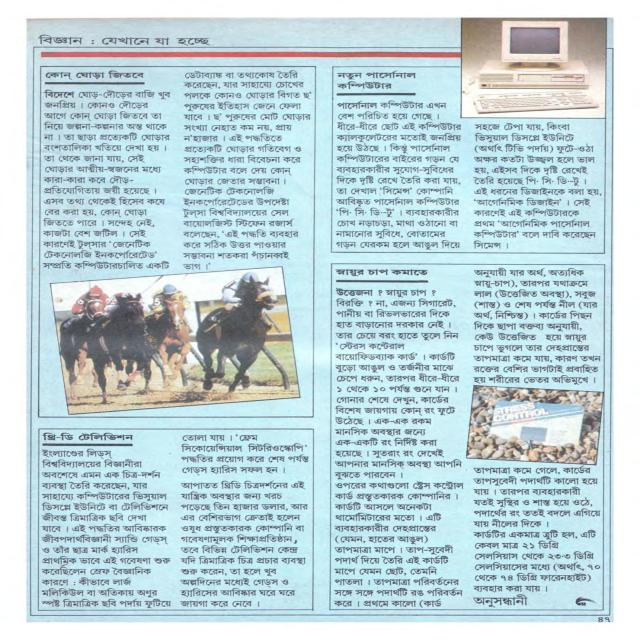image: (50, 266, 300, 415), (462, 18, 606, 119), (466, 386, 603, 465)
page number: (595, 615, 611, 623)
paragraph: (183, 69, 313, 270), (335, 287, 463, 481), (41, 89, 172, 270), (40, 448, 173, 609), (335, 100, 463, 250), (179, 479, 310, 608), (334, 480, 465, 608), (471, 123, 602, 250), (471, 267, 603, 387), (471, 529, 602, 593), (473, 465, 603, 528), (178, 433, 311, 476)
text: (474, 594, 528, 608)
title: (337, 70, 416, 91), (42, 431, 133, 448), (333, 266, 428, 281), (91, 36, 209, 46), (44, 70, 144, 80), (39, 34, 84, 45)
